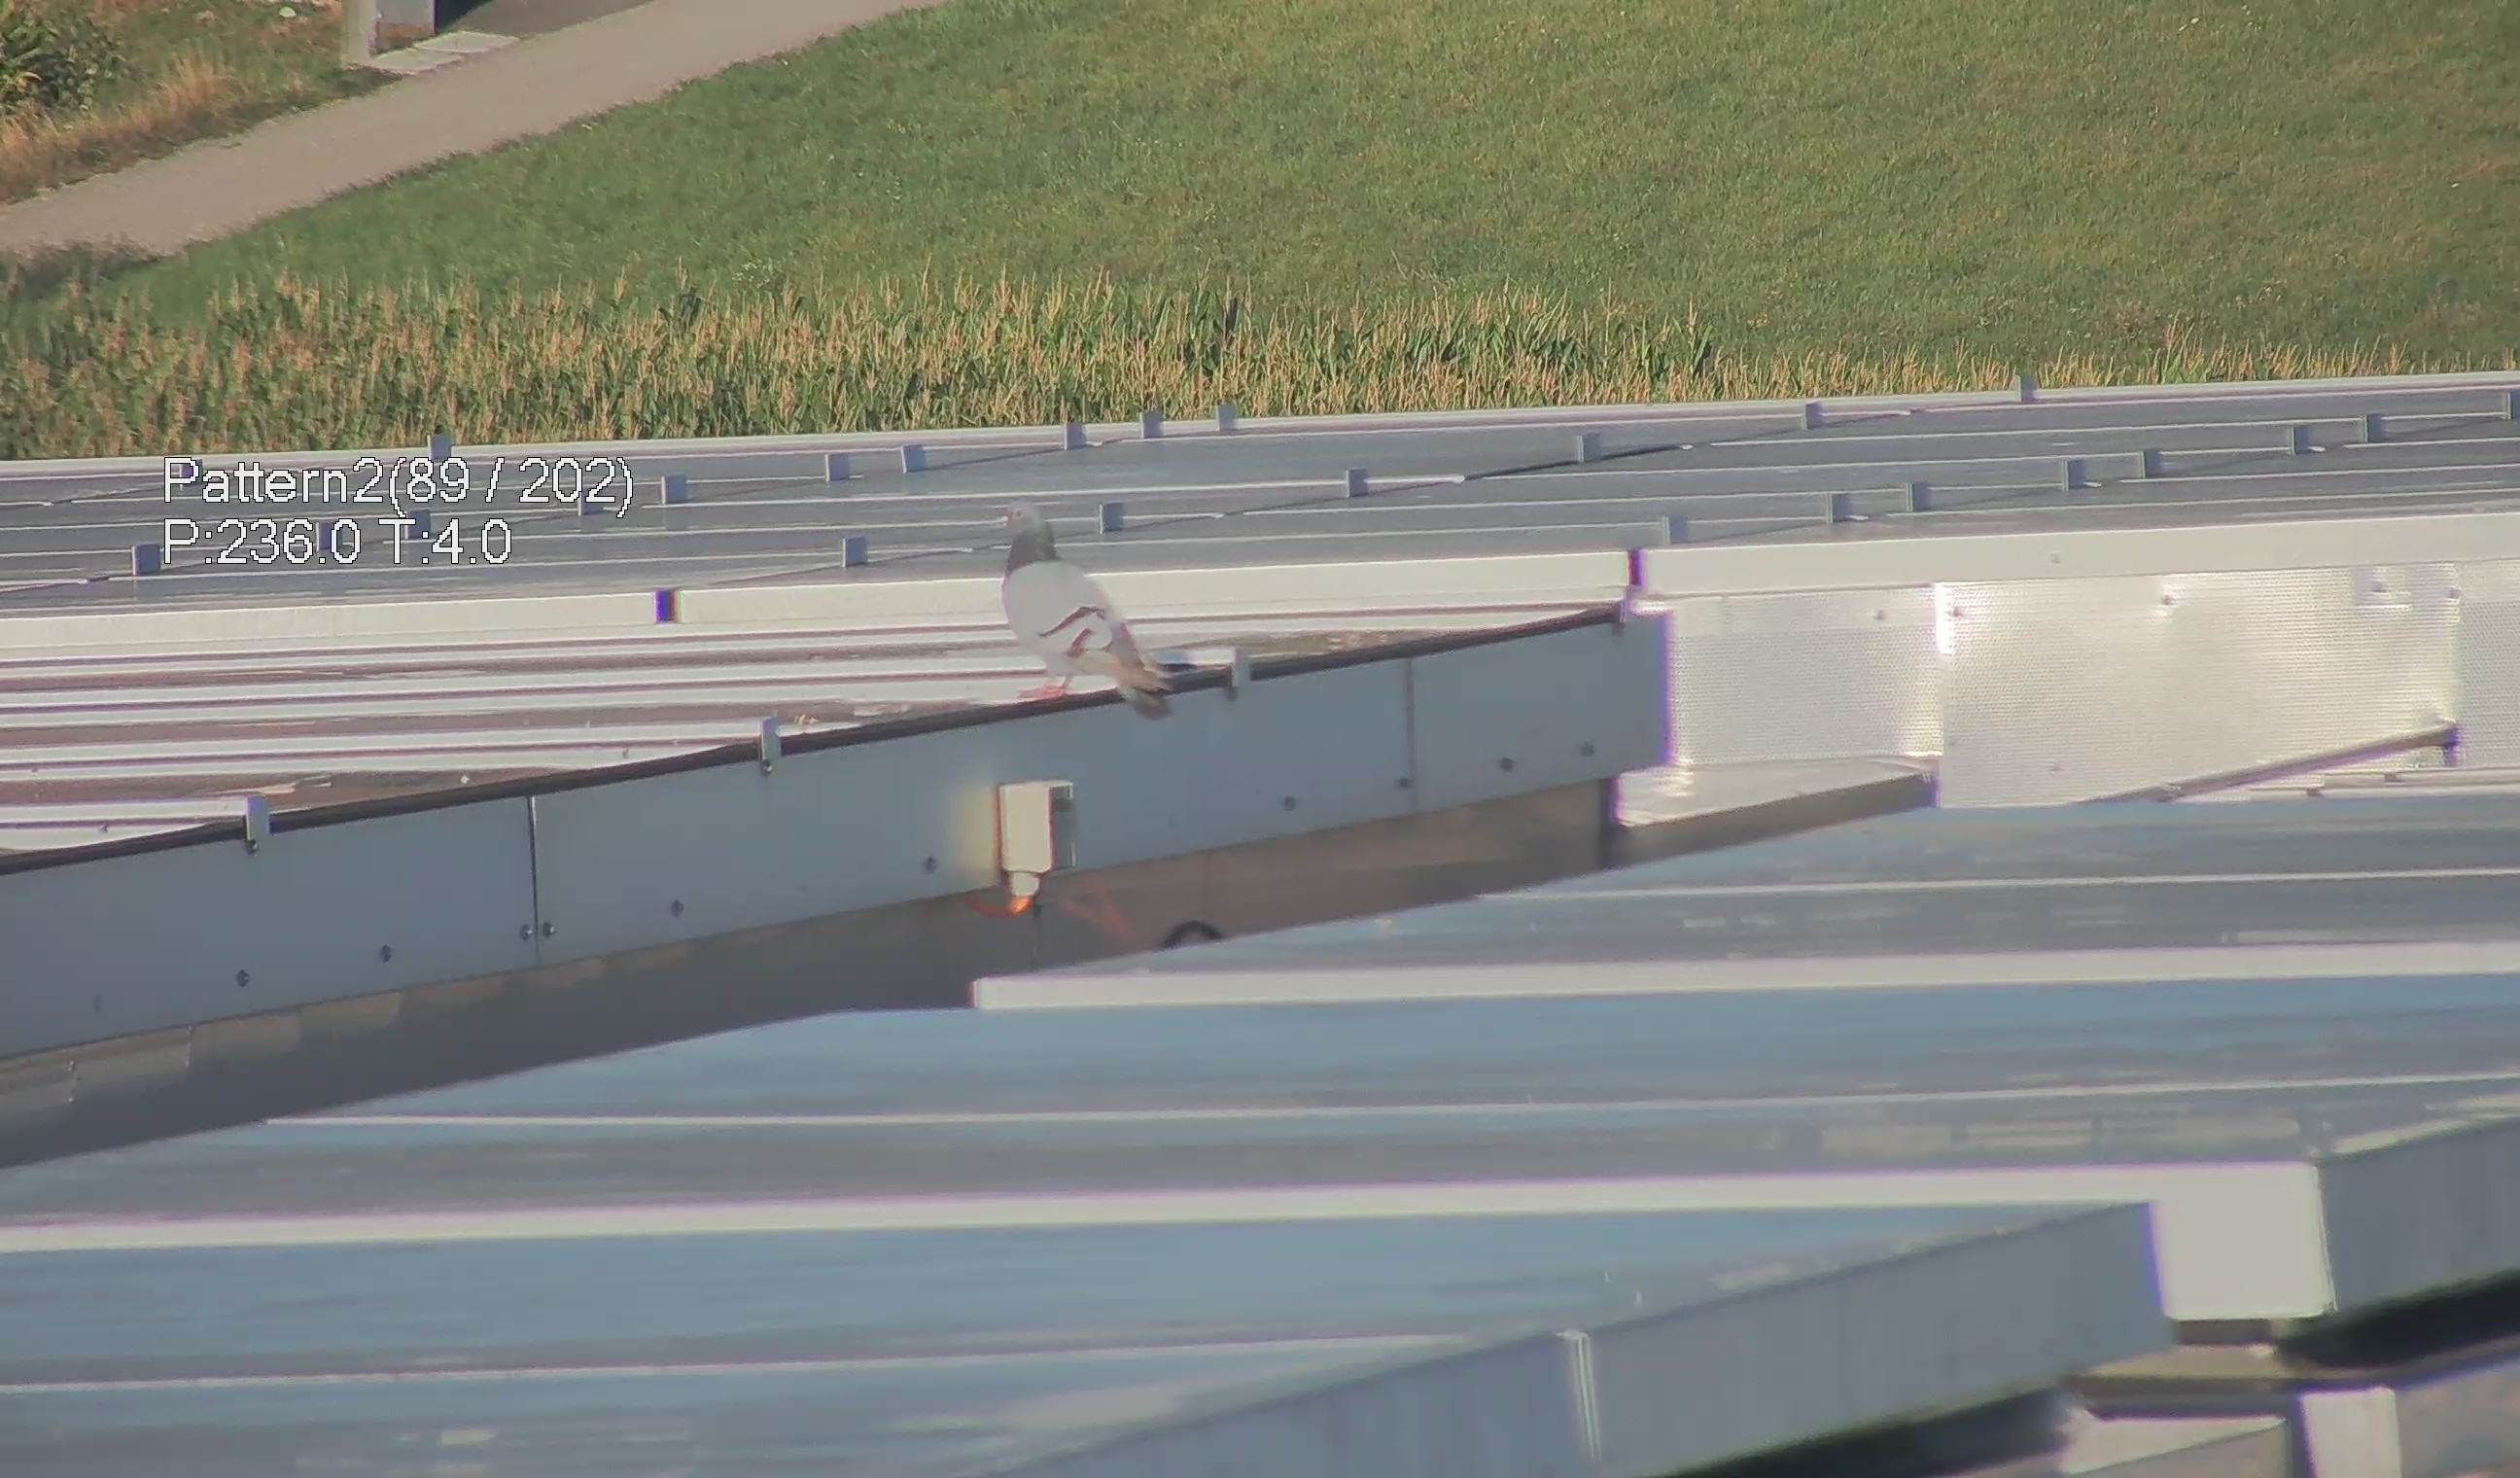Pigeon: (976, 503, 1191, 728)
